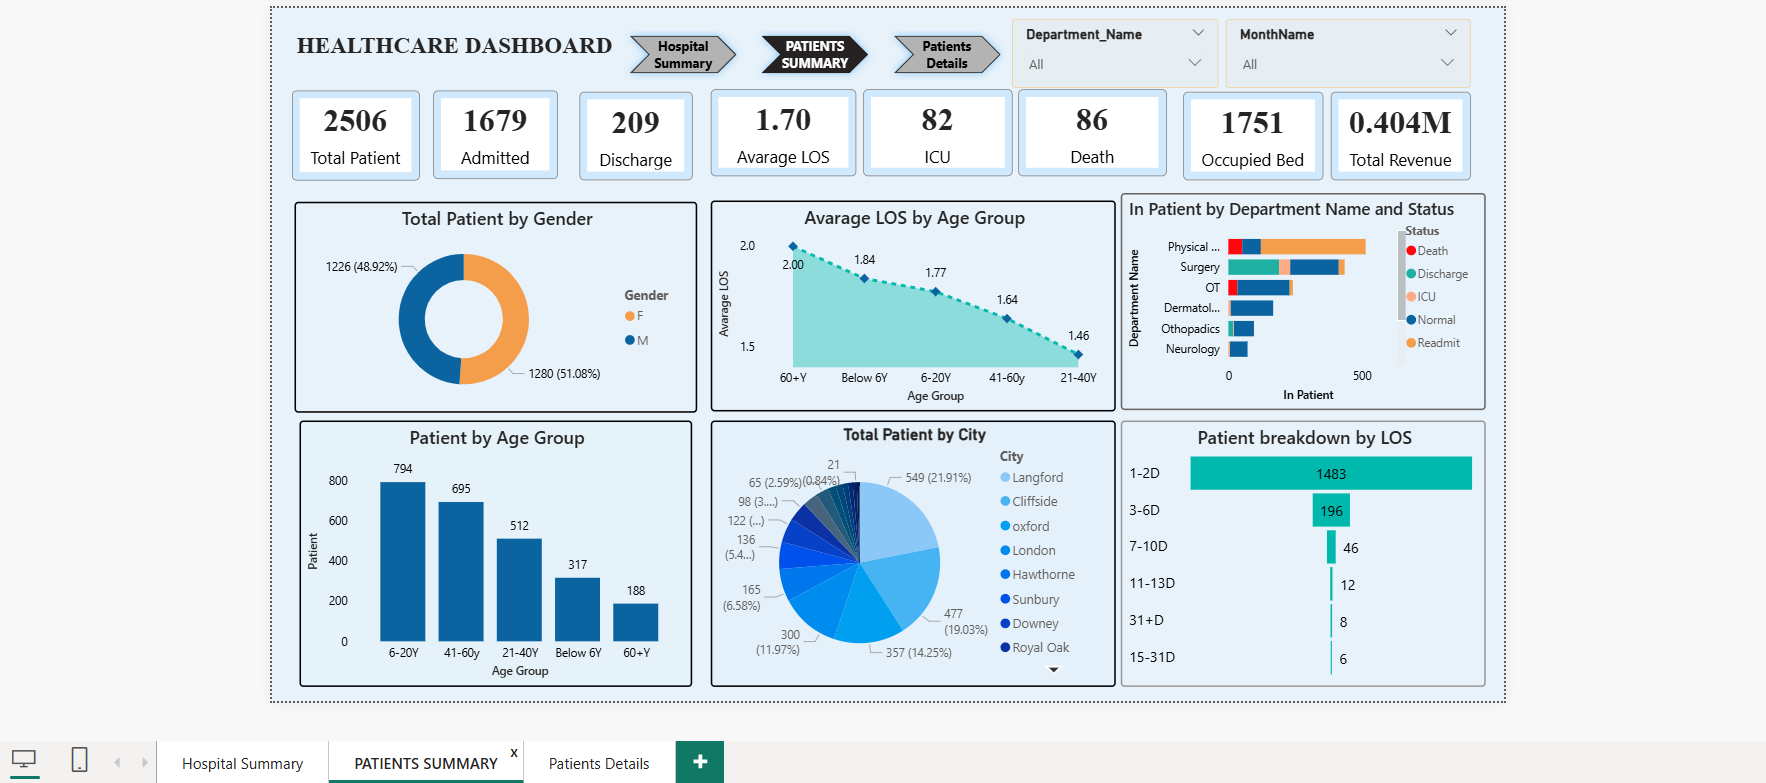

Layout of this report page (visuals, bound fields, positions):
{"tool":"powerbi","page":{"name":"Patients Summary ","canvas":[1280,720],"ordinal":1},"visuals":[{"type":"cardVisual","fields":{"Data":["Measure.Total Patient"]},"box":[21.2,86.2,132.5,93.8],"z":0},{"type":"textbox","box":[32.9,20.6,330.4,65.8],"z":1000},{"type":"slicer","fields":{"Values":["Department.Department_Name"]},"box":[769.2,15.1,213.9,71.3],"z":2000},{"type":"slicer","fields":{"Values":["Calendar_date.MonthName"]},"box":[992.6,15.1,253.6,71.3],"z":3000},{"type":"cardVisual","fields":{"Data":["Measure.In Patient"]},"box":[167.5,85.6,129.6,91.7],"z":4000},{"type":"cardVisual","fields":{"Data":["Measure.Total Discharge"]},"box":[319,86.8,117.4,91.7],"z":5000},{"type":"cardVisual","fields":{"Data":["Measure.Avarage LOS"]},"box":[456,84.3,151.6,90.5],"z":6000},{"type":"cardVisual","fields":{"Data":["Measure.ICU"]},"box":[613.7,84.3,155.2,90.5],"z":7000},{"type":"cardVisual","fields":{"Data":["Measure.Death"]},"box":[775,84.3,154,90.5],"z":8000},{"type":"cardVisual","fields":{"Data":["Measure.Occupied Bed"]},"box":[947.4,86.8,145.5,91.7],"z":9000},{"type":"cardVisual","fields":{"Data":["Measure.Total Revenue"]},"box":[1100.2,86.8,145.5,91.7],"z":10000},{"type":"donutChart","fields":{"Category":["Detail data dataset.Gender"],"Y":["Measure.Total Patient"]},"box":[20.8,191.9,407.1,228.6],"z":11000},{"type":"columnChart","fields":{"Y":["Measure.Total Patient"],"Category":["Detail data dataset.Age Bucket"]},"box":[31.4,420,407.1,275.7],"z":12000},{"type":"areaChart","fields":{"Y":["Measure.Avarage LOS"],"Category":["Detail data dataset.Age Bucket"]},"box":[427.8,178.5,420.5,218.8],"z":13000},{"type":"barChart","fields":{"Category":["Department.Department_Name"],"Y":["Measure.In Patient"],"Series":["Detail data dataset.Status"]},"box":[881.4,191.9,364.3,226.1],"z":14000},{"type":"funnel","title":"Patient breakdown by LOS","fields":{"Y":["Measure.Total Patient"],"Category":["Detail data dataset.Custom"]},"box":[897.2,429.1,364.3,277.5],"z":15000},{"type":"azureMap","fields":{"Size":["Measure.Total Patient"],"Category":["Detail data dataset.City"]},"box":[456,429.1,409.5,267.7],"z":16000},{"type":"pageNavigator","box":[363.1,20.8,402.2,55],"z":17000}]}

Visuals, with their boxes on the page's 1280x720 design canvas (x1, y1, x2, y2). These are canvas units, not pixel positions in the 1766x783 screenshot, which may show the page scaled, cropped or inside an application window:
cardVisual - Measure.Total Patient: select_region(21, 86, 154, 180)
textbox: select_region(33, 21, 363, 86)
slicer - Department.Department_Name: select_region(769, 15, 983, 86)
slicer - Calendar_date.MonthName: select_region(993, 15, 1246, 86)
cardVisual - Measure.In Patient: select_region(168, 86, 297, 177)
cardVisual - Measure.Total Discharge: select_region(319, 87, 436, 178)
cardVisual - Measure.Avarage LOS: select_region(456, 84, 608, 175)
cardVisual - Measure.ICU: select_region(614, 84, 769, 175)
cardVisual - Measure.Death: select_region(775, 84, 929, 175)
cardVisual - Measure.Occupied Bed: select_region(947, 87, 1093, 178)
cardVisual - Measure.Total Revenue: select_region(1100, 87, 1246, 178)
donutChart - Detail data dataset.Gender x Measure.Total Patient: select_region(21, 192, 428, 420)
columnChart - Measure.Total Patient x Detail data dataset.Age Bucket: select_region(31, 420, 438, 696)
areaChart - Measure.Avarage LOS x Detail data dataset.Age Bucket: select_region(428, 178, 848, 397)
barChart - Department.Department_Name x Measure.In Patient: select_region(881, 192, 1246, 418)
"Patient breakdown by LOS" funnel: select_region(897, 429, 1262, 707)
azureMap - Measure.Total Patient x Detail data dataset.City: select_region(456, 429, 866, 697)
pageNavigator: select_region(363, 21, 765, 76)
